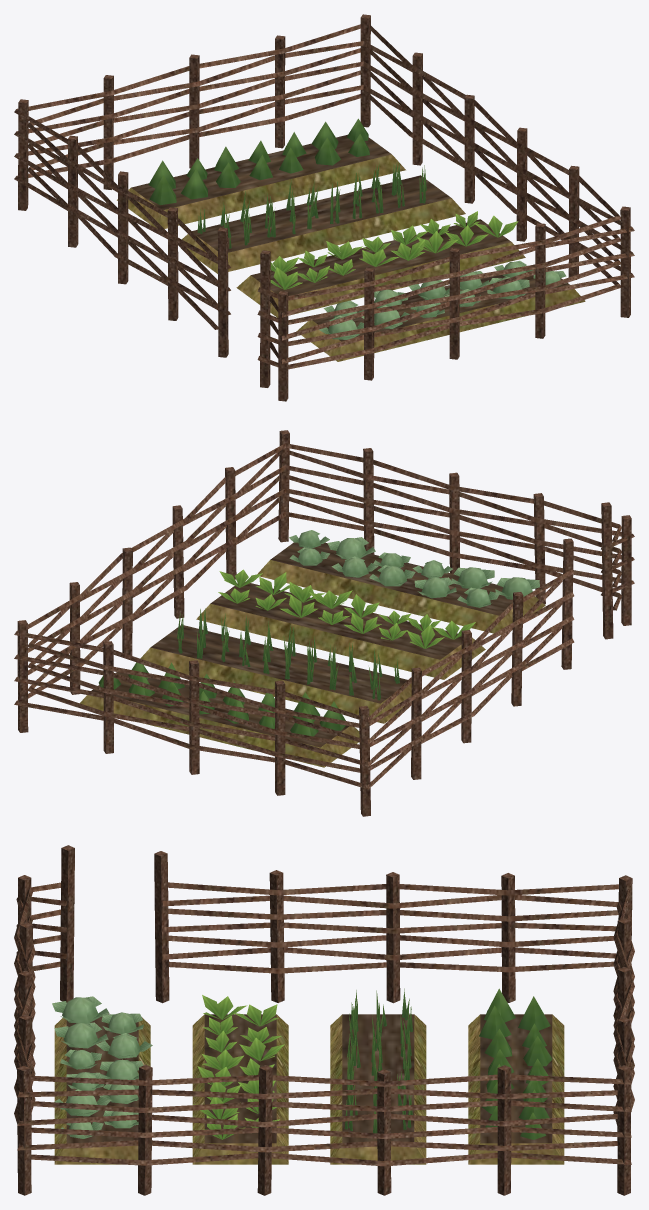
Rendered from garden.glb.
The picture shows the model from 3 angles, top to bottom: view 1: azimuth 30°, elevation 25°; view 2: azimuth 150°, elevation 25°; view 3: azimuth 270°, elevation 25°; orthographic projection. The views are drawn at different scales.
Parts seen in each view (by area): view 1: garden; view 2: garden; view 3: garden.
Boxes of the visible parts, bbox=[...] form: garden: bbox=[14, 14, 634, 401]; garden: bbox=[14, 430, 634, 816]; garden: bbox=[14, 845, 634, 1195].
Bounding box in the file's own units: 3.98 × 1.41 × 5.18.
Materials: 1 (1 with a texture image).
